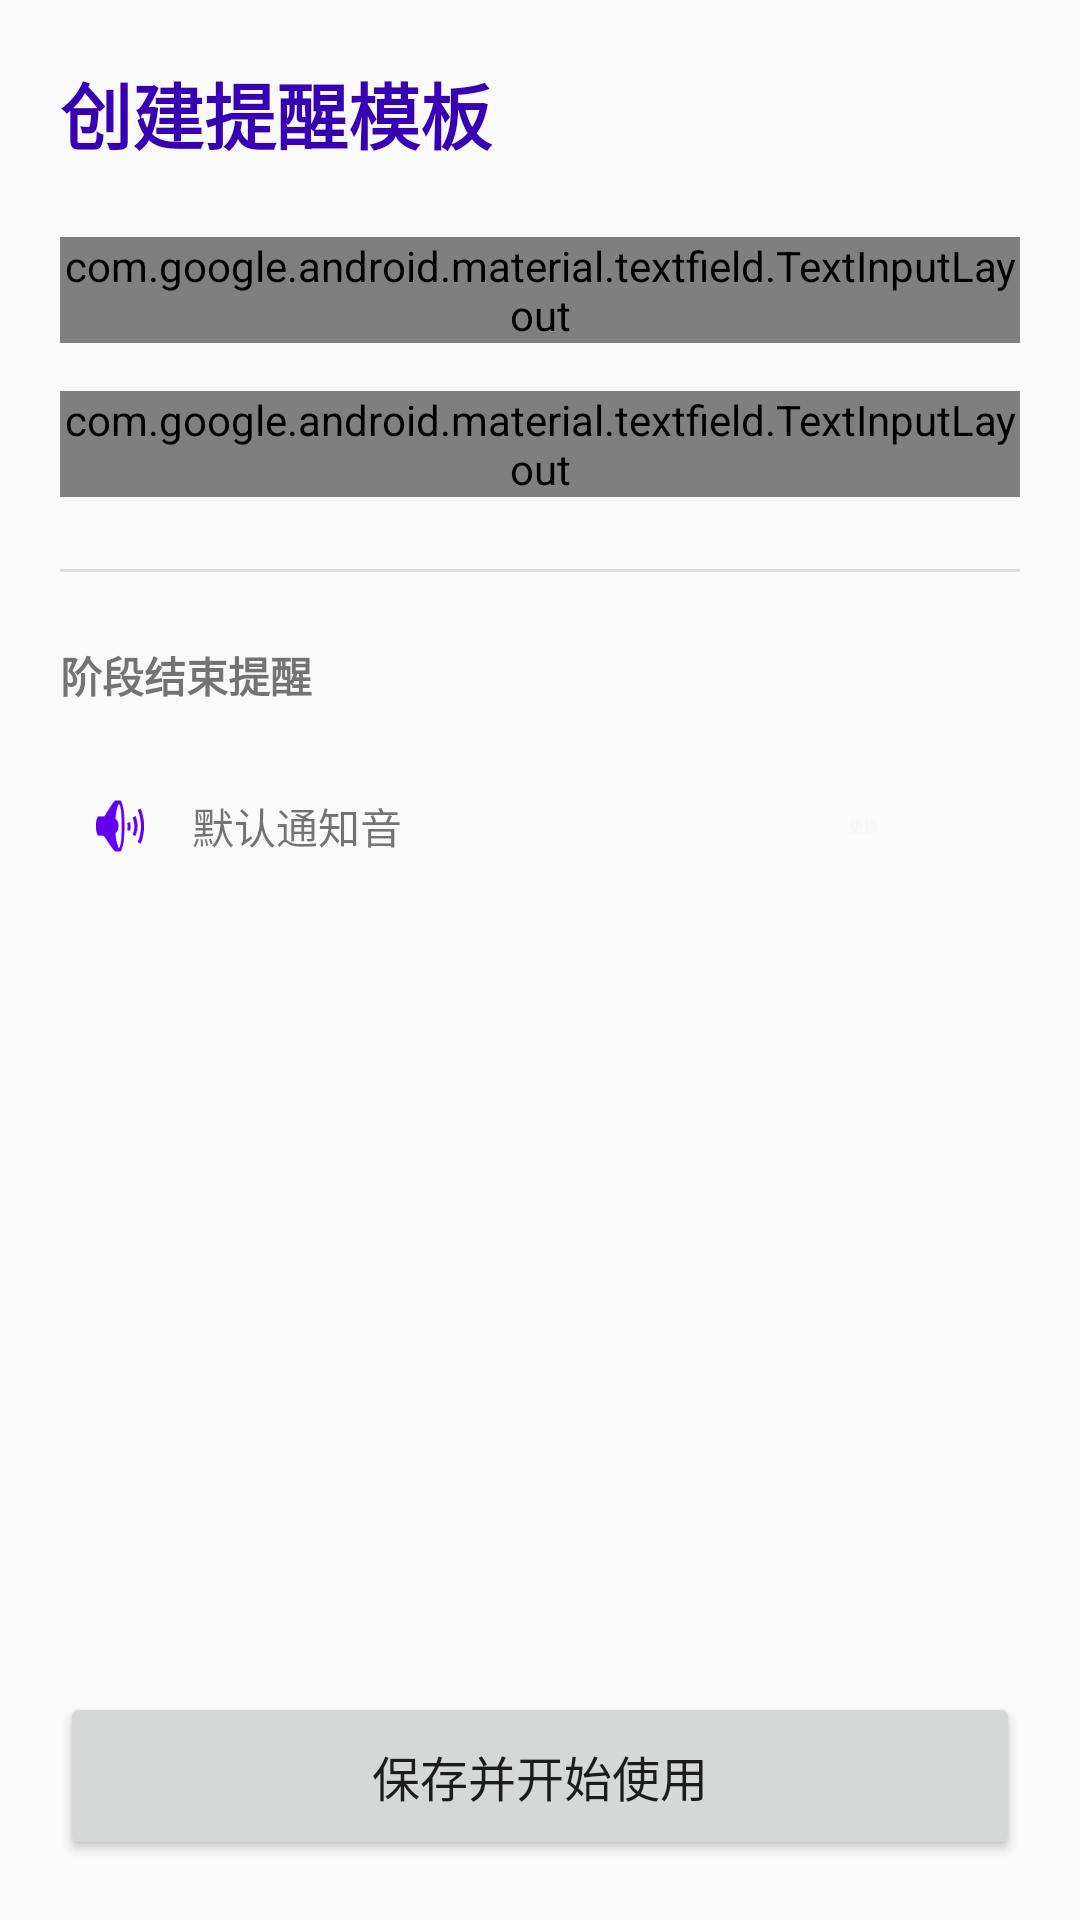

Named icons in this screenshot (1080px×1920px) and their centers, (x,y):
lock silent mode off: (120,826)
